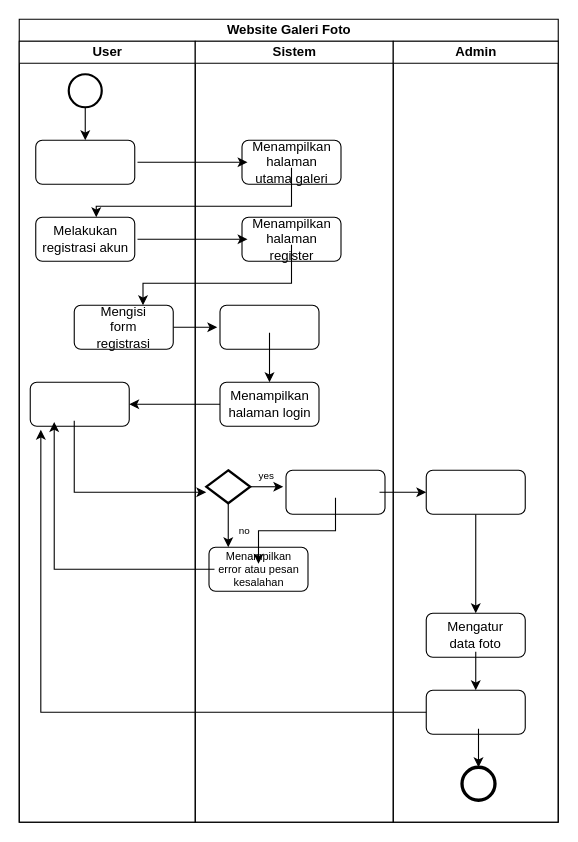
This 578x842 diagram has some shape labels left out. The shapes that lost their labels are listed below. From the top down, each one's centre as x and y in pixels, then its label:
At (85,161): "Membuka website galeri".
At (269,326): "Memasukkan data user ke database".
At (79,403): "Mengisi form login".
At (335,491): "Menampilkan halaman dashboard".
At (475,491): "Menambah/menghapus data foto".
At (475,711): "Logout akun admin".
